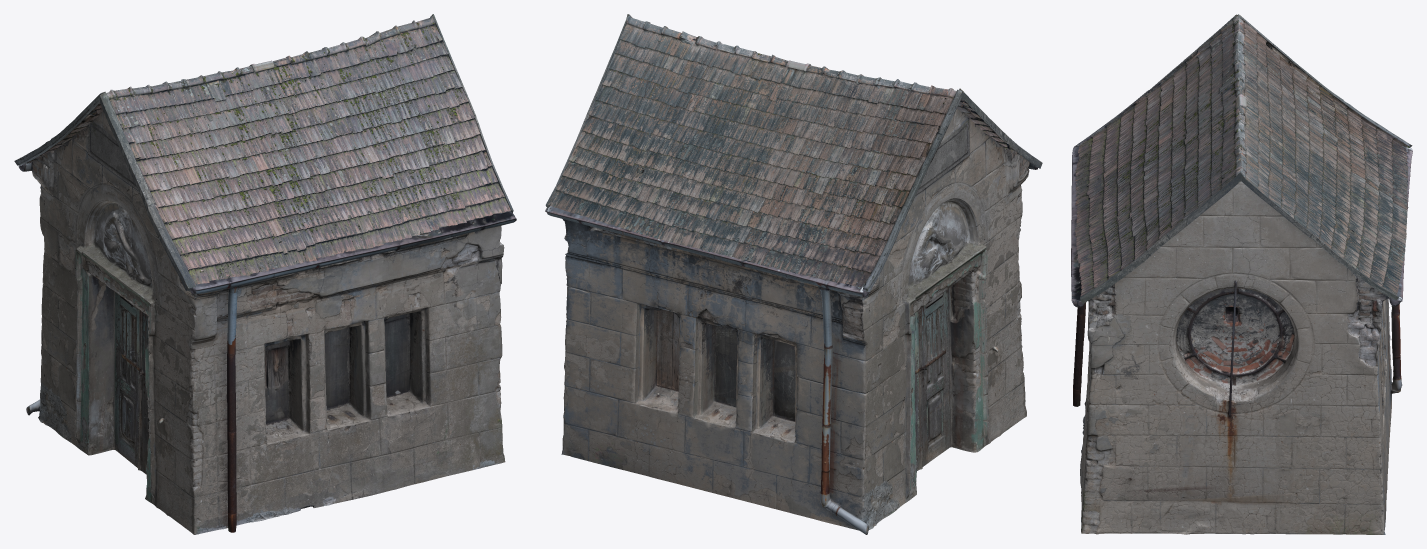
Rendered from sm_Mausoleum_01_01.fbx.
3 renders of one model, left to right at view 1: azimuth 30°, elevation 25°; view 2: azimuth 150°, elevation 25°; view 3: azimuth 270°, elevation 25°, orthographic. The views are drawn at different scales.
Visible parts, largest first — view 1: sm_Mausoleum_01_01_LOD0; view 2: sm_Mausoleum_01_01_LOD0; view 3: sm_Mausoleum_01_01_LOD0.
Boxes of the visible parts, bbox=[...] form: sm_Mausoleum_01_01_LOD0: bbox=[14, 14, 516, 534]; sm_Mausoleum_01_01_LOD0: bbox=[545, 14, 1042, 534]; sm_Mausoleum_01_01_LOD0: bbox=[1071, 14, 1412, 534].
Size of the model in its own units: 448 by 414 by 495.
